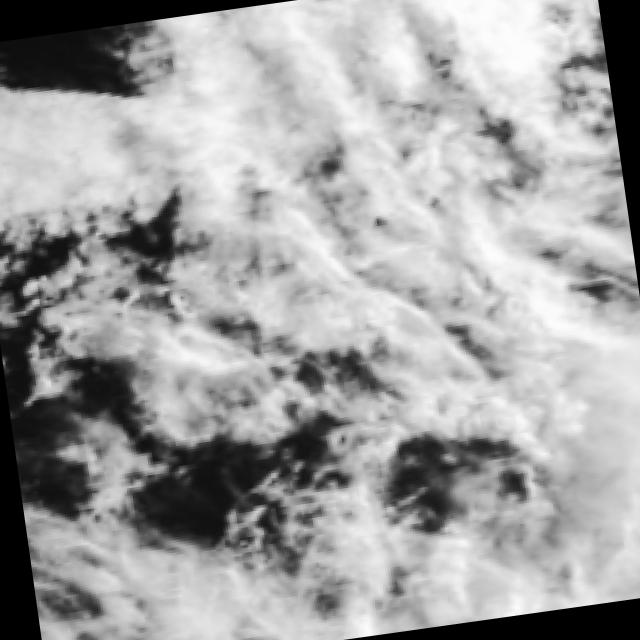CB: (165, 0, 356, 174), (337, 0, 563, 143), (513, 312, 640, 558), (346, 194, 518, 342), (0, 89, 149, 209)
